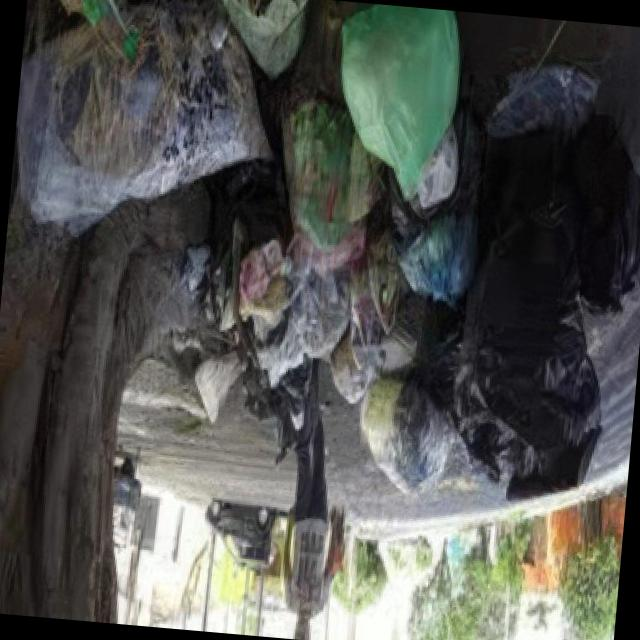high trash: (17, 0, 640, 500)
